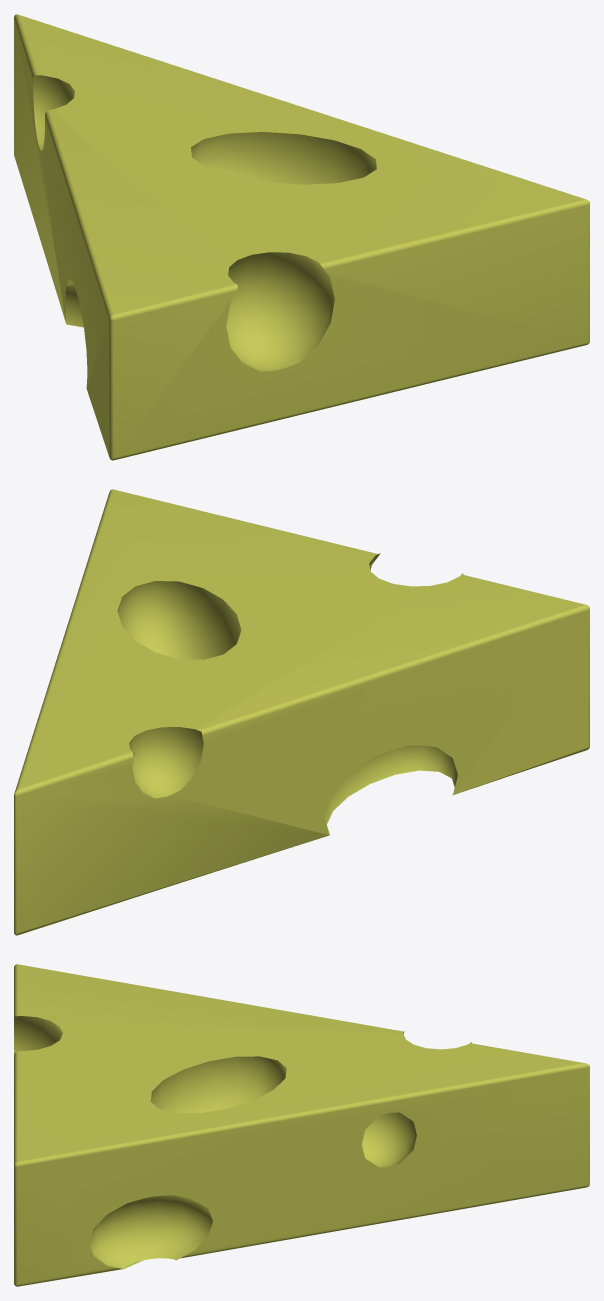
File: cheese.fbx
3 views of the same model, one above another, from view 1: azimuth 30°, elevation 25°; view 2: azimuth 150°, elevation 25°; view 3: azimuth 270°, elevation 25° (orthographic). The views are drawn at different scales.
Parts seen in each view (by area): view 1: Extrude, Sphere, Sphere_6, Sphere_7, Sphere_5; view 2: Extrude, Sphere_6, Sphere_7, Sphere_5; view 3: Extrude, Sphere_4, Sphere_6, Sphere_2, Sphere.
Part boxes in pixels (x1,y1,x2,y2): Extrude: (14,14,589,460); Sphere: (226,252,334,371); Sphere_6: (191,132,376,184); Sphere_7: (33,75,74,150); Sphere_5: (65,280,83,327); Extrude: (14,489,589,935); Sphere_6: (117,581,241,659); Sphere_7: (129,727,203,798); Sphere_5: (324,745,457,834); Extrude: (14,964,589,1286); Sphere_4: (89,1195,212,1269); Sphere_6: (150,1056,286,1113); Sphere_2: (361,1112,416,1167); Sphere: (14,1016,62,1053).
Bounding box in the file's own units: 344 × 100 × 418.
